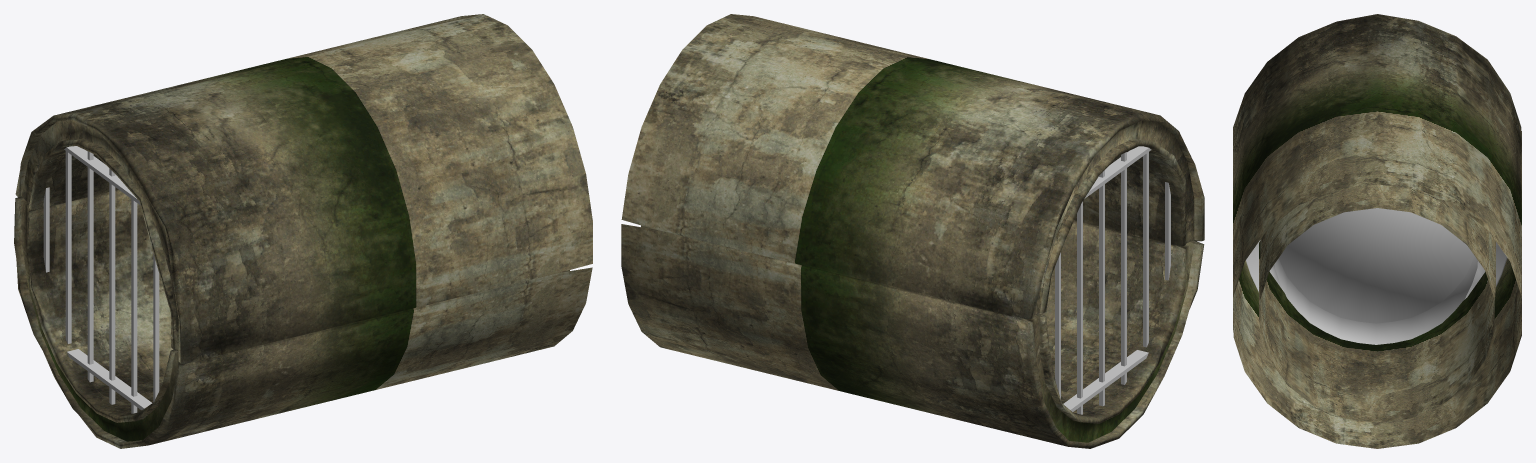
Rendered from drain.DAE.
The picture shows the model from 3 angles, left to right: view 1: azimuth 30°, elevation 25°; view 2: azimuth 150°, elevation 25°; view 3: azimuth 270°, elevation 25°; orthographic projection. The views are drawn at different scales.
Visible parts, largest first — view 1: drain_pipe, drain_rail; view 2: drain_pipe, drain_rail; view 3: drain_pipe, drain_rail.
Part boxes in pixels (x1,y1,x2,y2): drain_pipe: (14, 14, 592, 448); drain_rail: (43, 146, 159, 413); drain_pipe: (621, 14, 1204, 448); drain_rail: (1038, 146, 1170, 414); drain_pipe: (1233, 14, 1521, 448); drain_rail: (1246, 208, 1507, 344).
Bounding box in the file's own units: 4.34 × 3.11 × 3.14.
